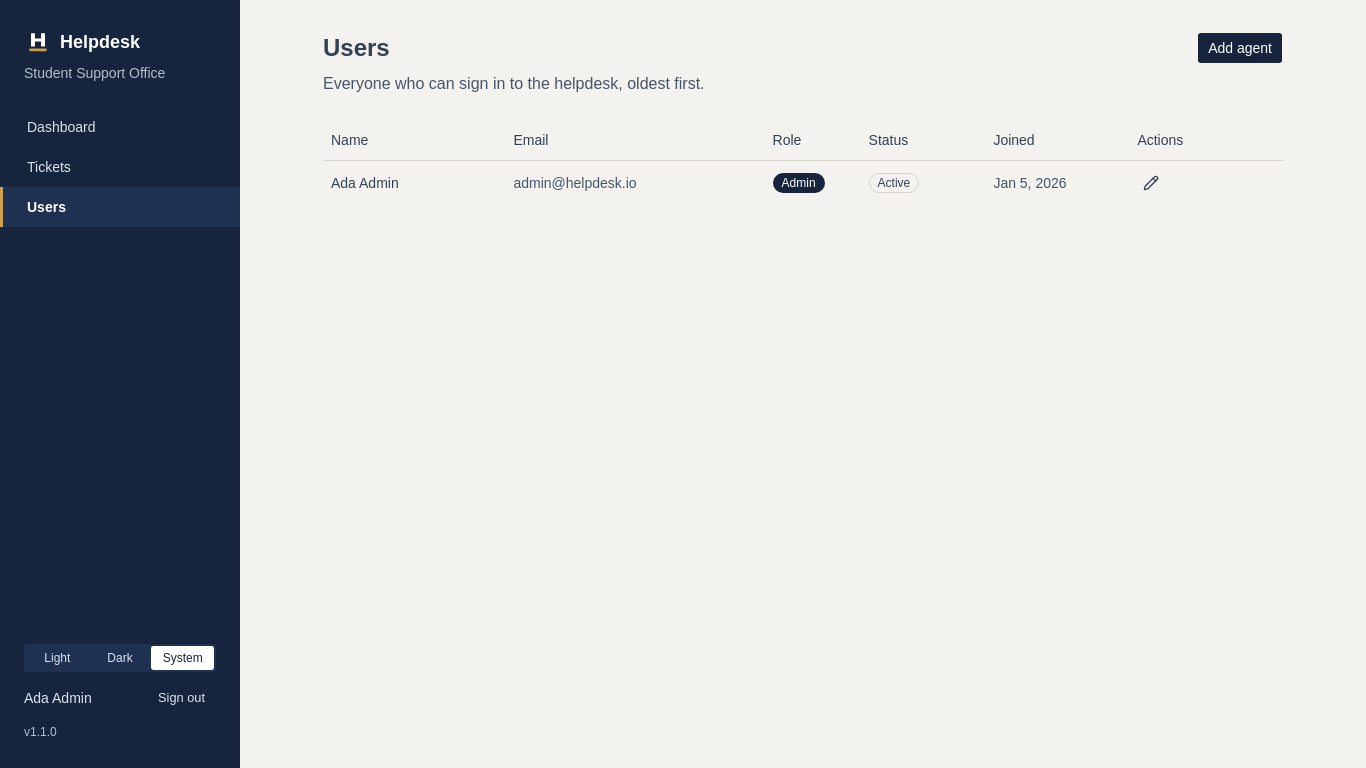
an admin adds an agent, and the new row appears in the list
The width and height of the screenshot is (1366, 768).
Click the button "Add agent".
click(1240, 48)  # box [1197,32,1283,64]
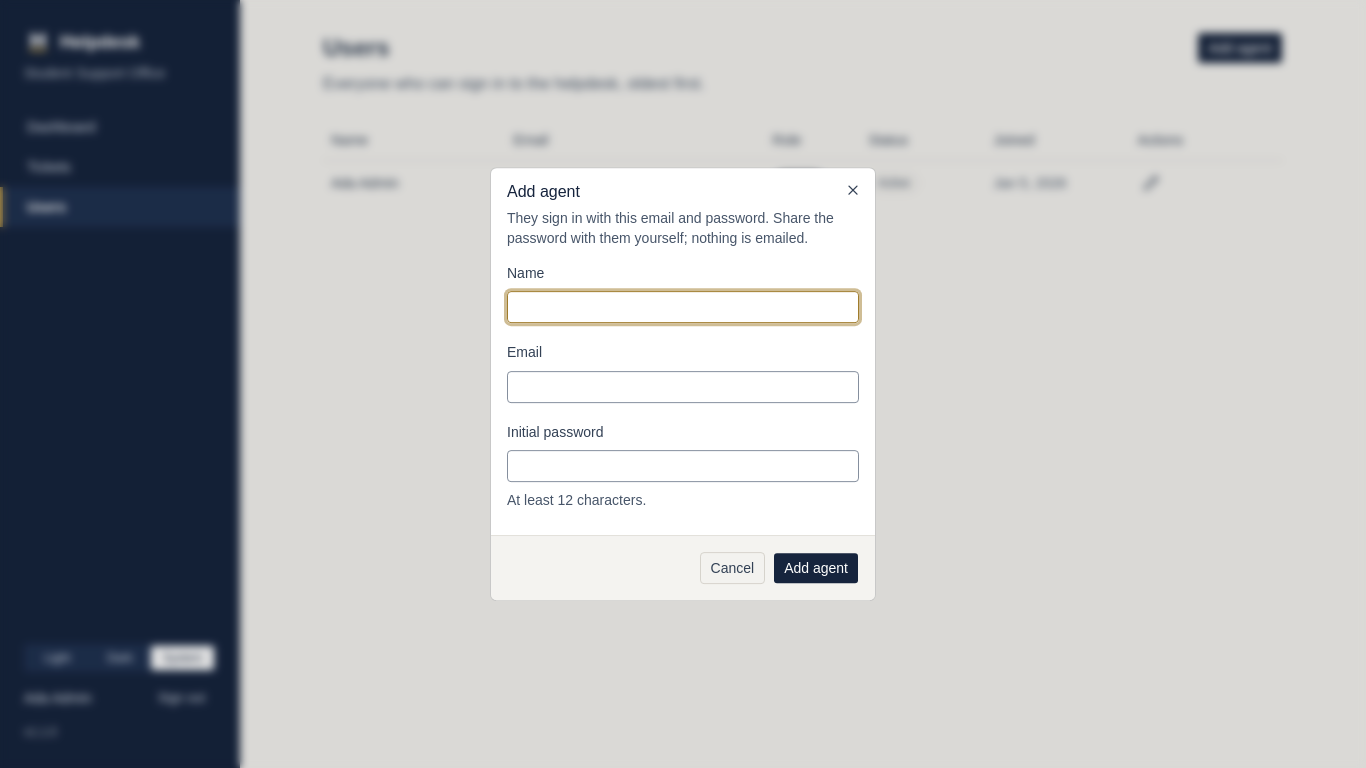
Type "Nia New" into the field labelled "Name".
click(683, 307); type("Nia New")  # box [507,291,859,323]
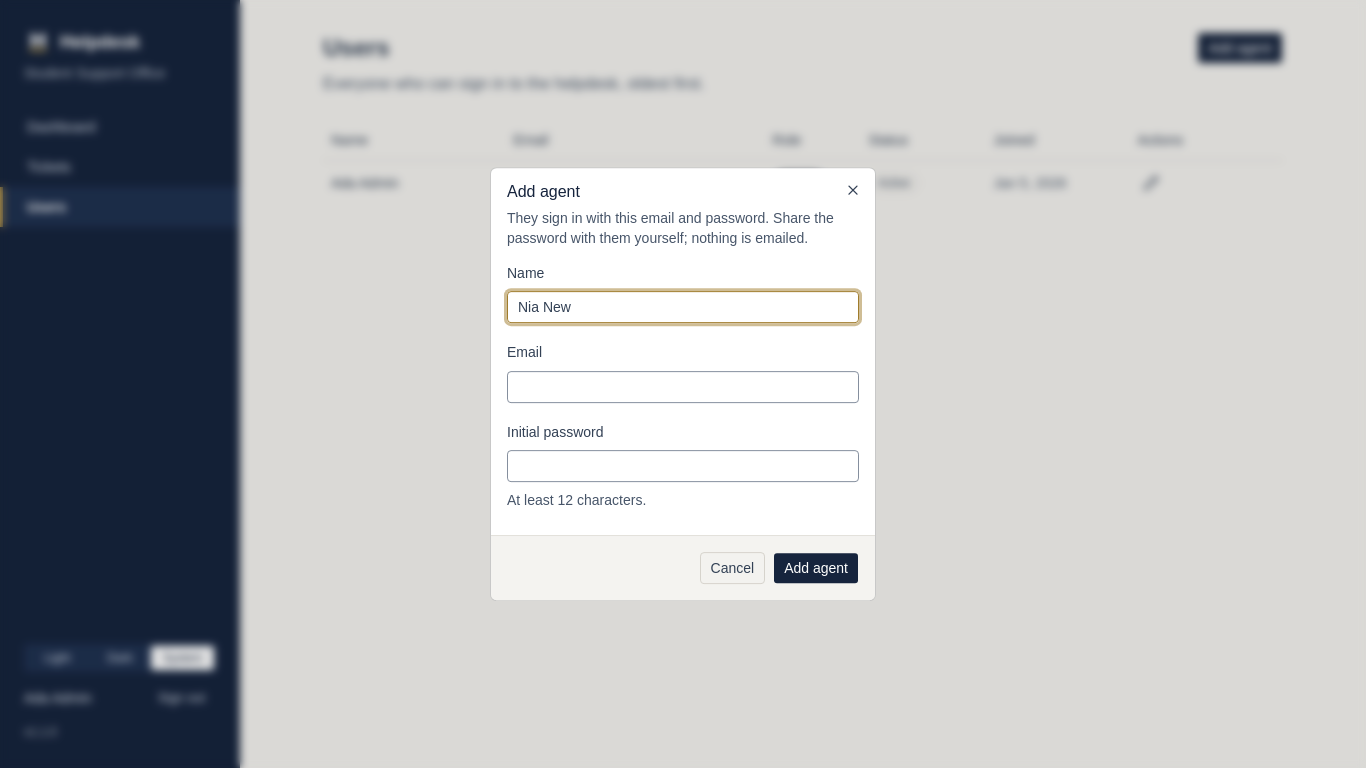
Type "nia@helpdesk.io" into the field labelled "Email".
click(683, 387); type("nia@helpdesk.io")  # box [507,371,859,403]
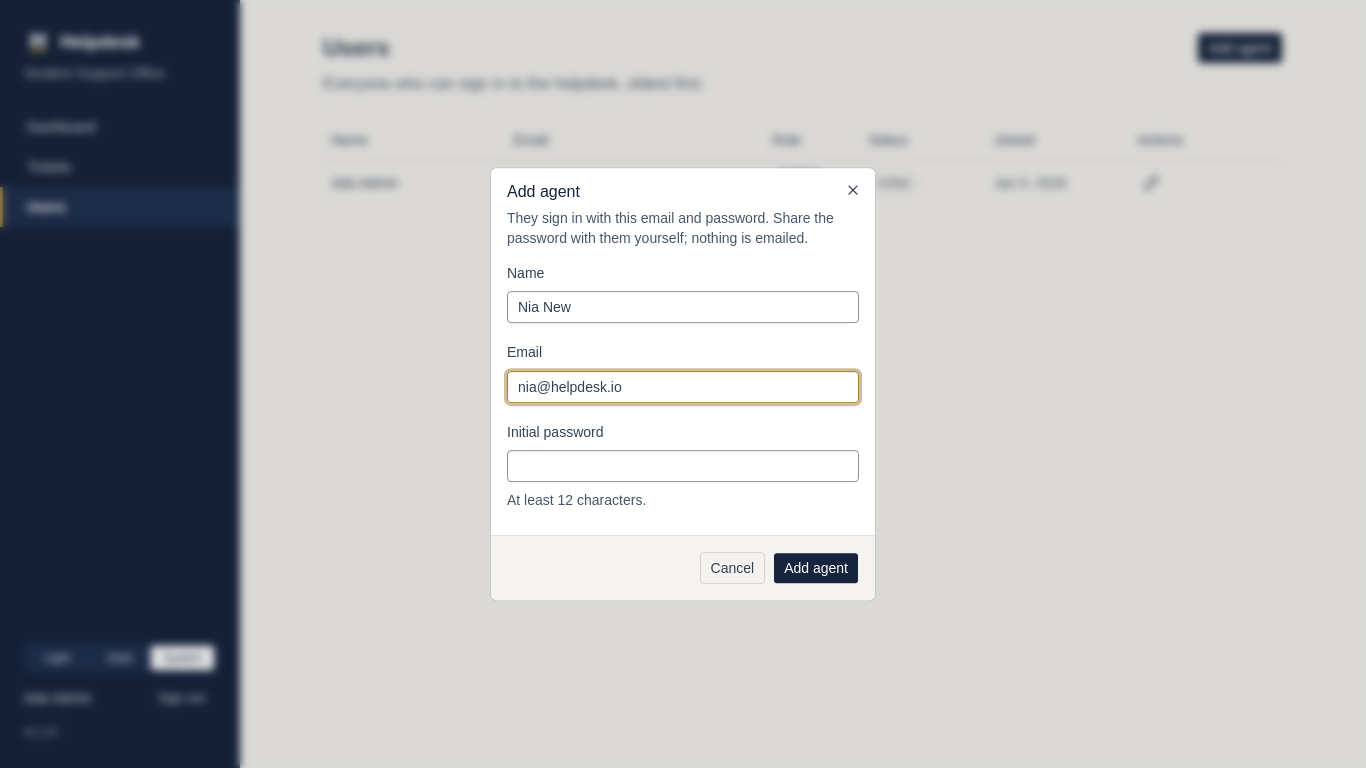
Type "a-long-enough-password" into the password field labelled "Initial password".
click(683, 466); type("a-long-enough-password")  # box [507,450,859,482]
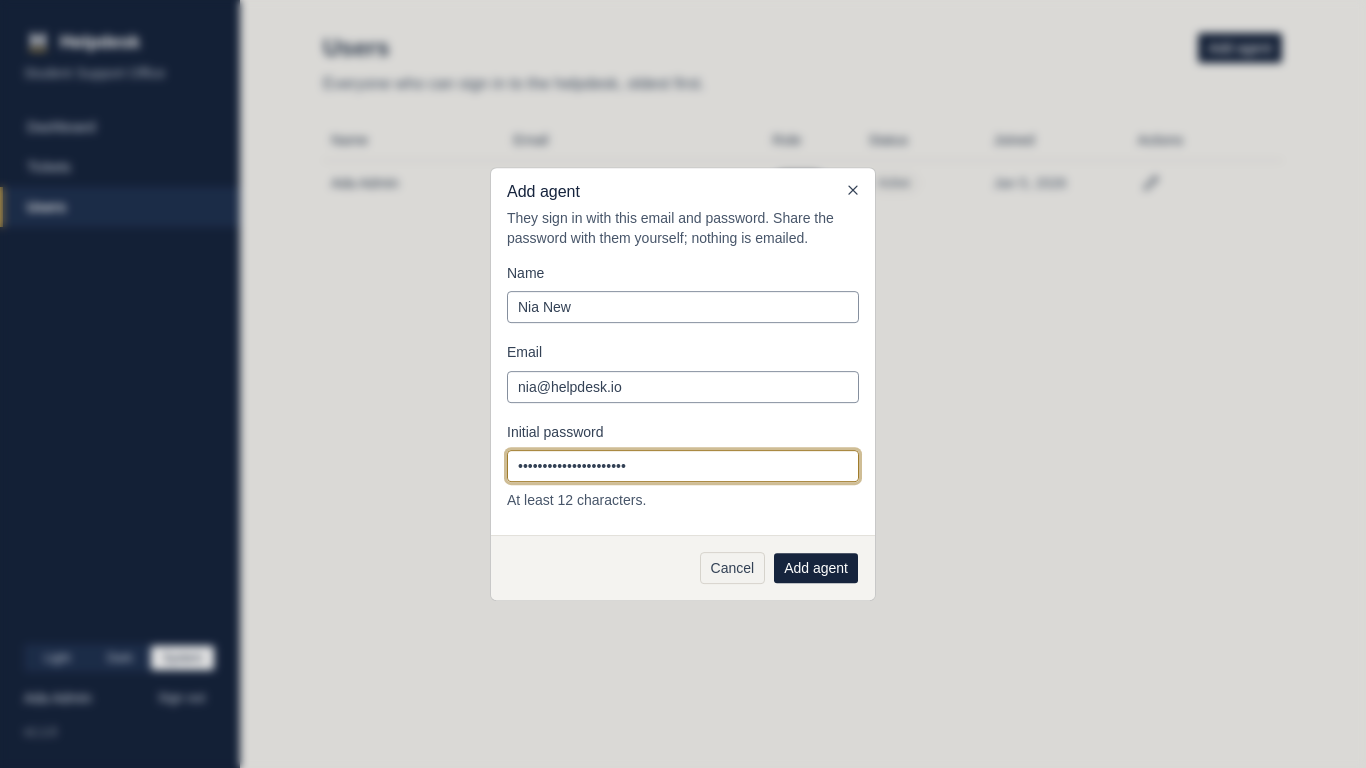
Click the button "Add agent".
click(816, 568)  # box [773,552,859,584]
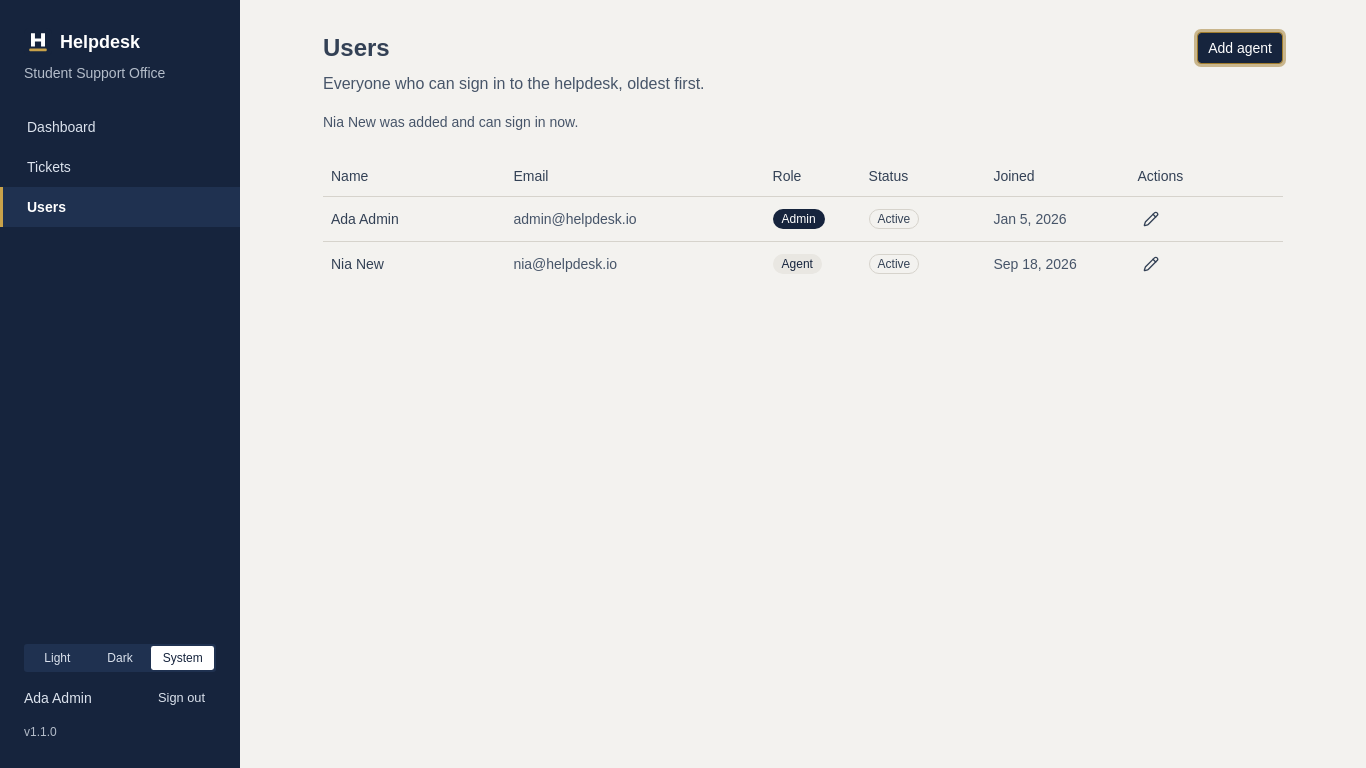
expect the dialog is gone: met
expect the cell "Nia New" is shown: met, box [323,241,505,286]
expect the text "Nia New was added and can sign in now." is shown: met, box [323,114,578,130]
